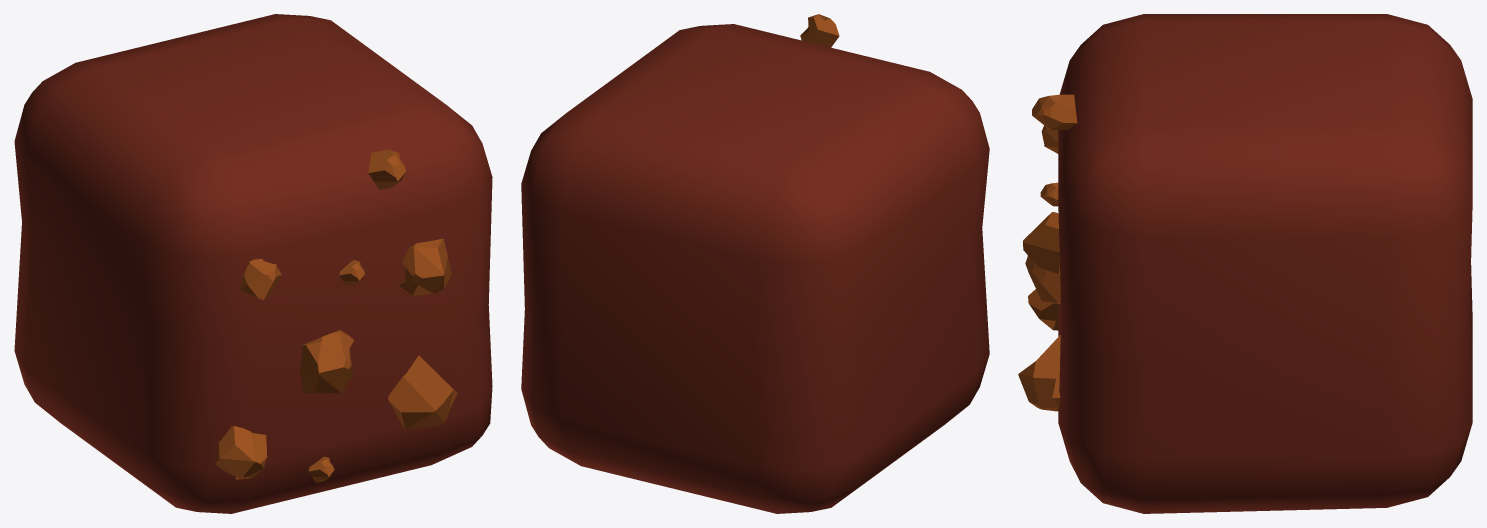
The picture shows the model from 3 angles, left to right: view 1: azimuth 30°, elevation 25°; view 2: azimuth 150°, elevation 25°; view 3: azimuth 270°, elevation 25°; orthographic projection. The views are drawn at different scales.
Parts seen in each view (by area): view 1: cube; view 2: cube; view 3: cube.
Boxes of the visible parts, x1,y1,x2,y2 form: cube: (14, 14, 492, 513); cube: (521, 14, 989, 513); cube: (1018, 14, 1472, 513).
Size of the model in its own units: 207 by 189 by 189.
